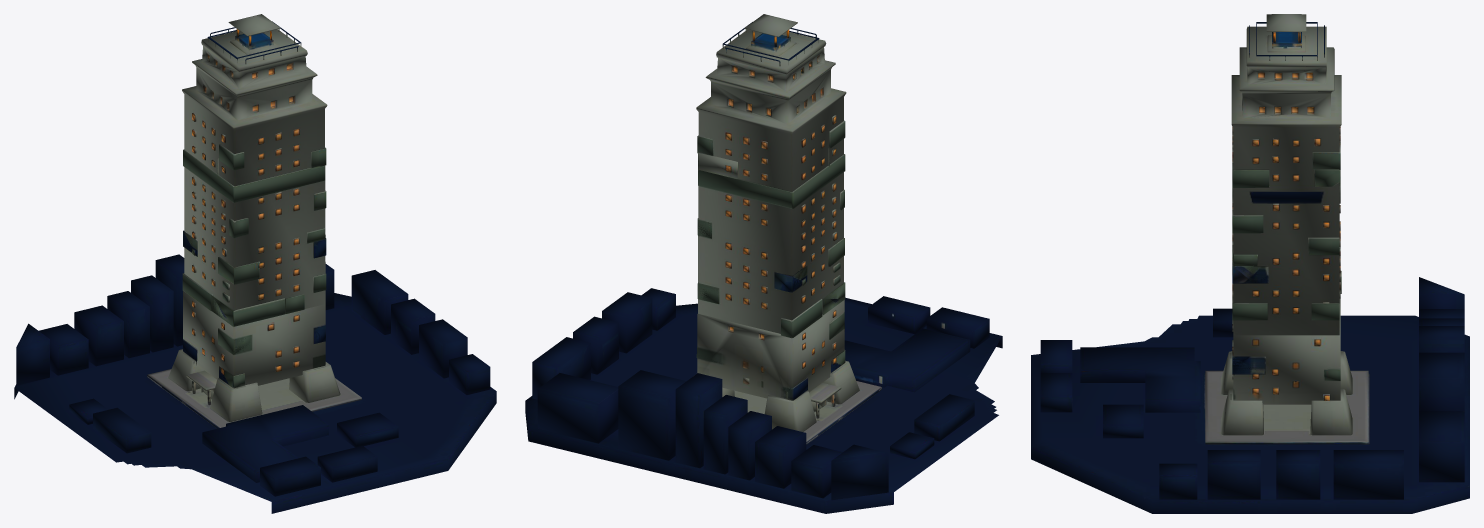
File: original_glb.glb
The picture shows the model from 3 angles, left to right: view 1: azimuth 30°, elevation 25°; view 2: azimuth 150°, elevation 25°; view 3: azimuth 270°, elevation 25°; orthographic projection. The views are drawn at different scales.
Parts seen in each view (by area): view 1: Sage Tenshu Tower; view 2: Sage Tenshu Tower; view 3: Sage Tenshu Tower.
Part boxes in pixels (x1=…): Sage Tenshu Tower: x1=14, y1=14, x2=496, y2=513; Sage Tenshu Tower: x1=525, y1=14, x2=1002, y2=513; Sage Tenshu Tower: x1=1031, y1=14, x2=1469, y2=513.
Size of the model in its own units: 0.9746 by 0.998 by 0.9746.
Materials: 1 (1 with a texture image).
